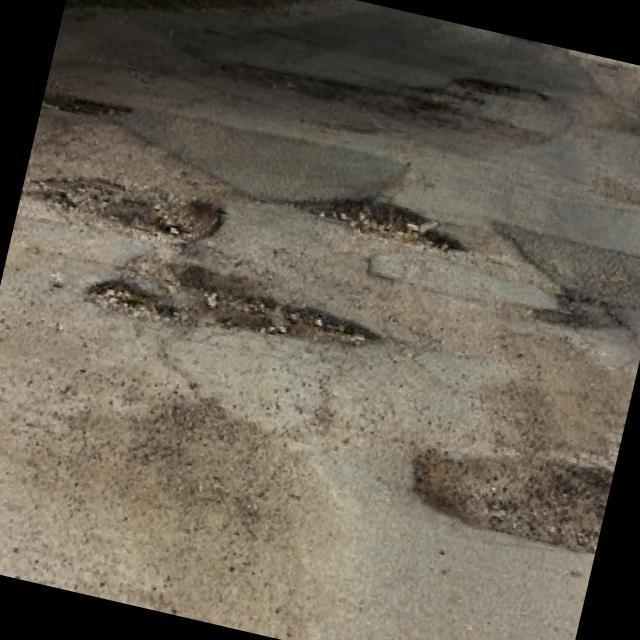pothole: (86, 239, 390, 369), (400, 422, 615, 559), (17, 156, 228, 255), (286, 180, 470, 261), (530, 284, 627, 341), (453, 69, 551, 108), (42, 85, 133, 125)
